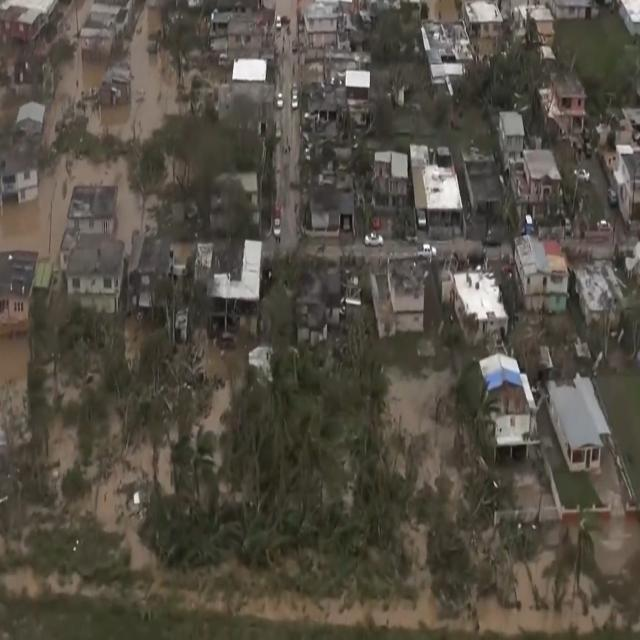flood: (0, 411, 640, 634), (0, 0, 189, 261), (383, 371, 457, 495), (191, 347, 252, 477), (0, 339, 33, 448), (47, 351, 98, 399)
house: (472, 347, 538, 457), (370, 252, 432, 344), (548, 380, 606, 475), (60, 236, 127, 316), (412, 144, 461, 236), (0, 111, 45, 211), (449, 266, 508, 338), (296, 176, 358, 240), (516, 236, 566, 314), (420, 17, 471, 91), (0, 248, 37, 342), (518, 142, 564, 216), (370, 146, 411, 228), (66, 182, 121, 234), (1, 0, 59, 48), (556, 62, 588, 134), (612, 145, 640, 225), (548, 1, 598, 23), (615, 0, 639, 43)
